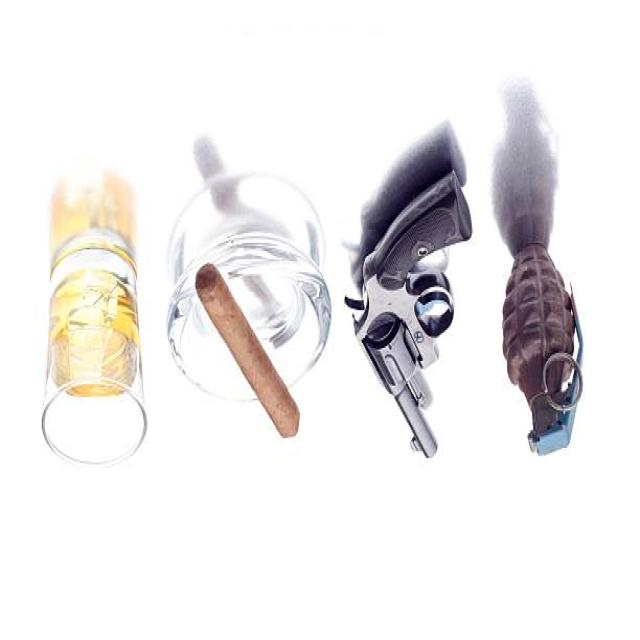grenade: (500, 235, 590, 473)
